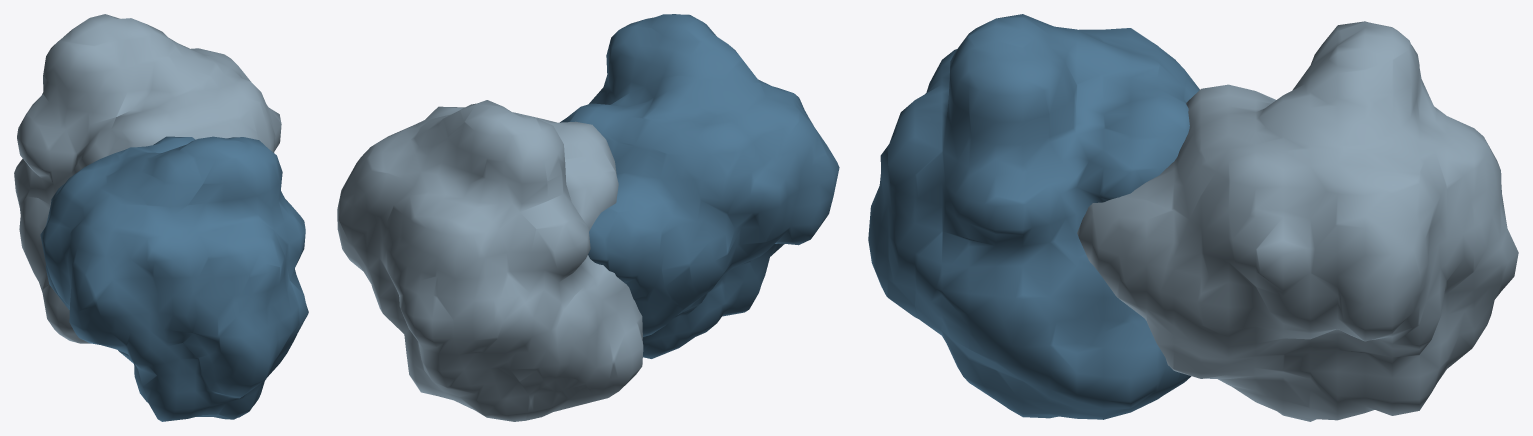
The model's file is dimer7TIM.fbx.
3 views of the same model, side by side, from view 1: azimuth 30°, elevation 25°; view 2: azimuth 150°, elevation 25°; view 3: azimuth 270°, elevation 25° (orthographic). The views are drawn at different scales.
Parts seen in each view (by area): view 1: CoarseMS_7TIMsimp, CoarseMS_7TIMsimp_Selection0; view 2: CoarseMS_7TIMsimp_Selection0, CoarseMS_7TIMsimp; view 3: CoarseMS_7TIMsimp_Selection0, CoarseMS_7TIMsimp.
Boxes of the visible parts, x1,y1,x2,y2 form: CoarseMS_7TIMsimp: [40, 136, 308, 421]; CoarseMS_7TIMsimp_Selection0: [14, 14, 281, 343]; CoarseMS_7TIMsimp_Selection0: [337, 100, 643, 421]; CoarseMS_7TIMsimp: [560, 14, 839, 358]; CoarseMS_7TIMsimp_Selection0: [1077, 21, 1518, 421]; CoarseMS_7TIMsimp: [868, 14, 1199, 419].
Bounding box in the file's own units: 60.29 × 55.05 × 82.77.
